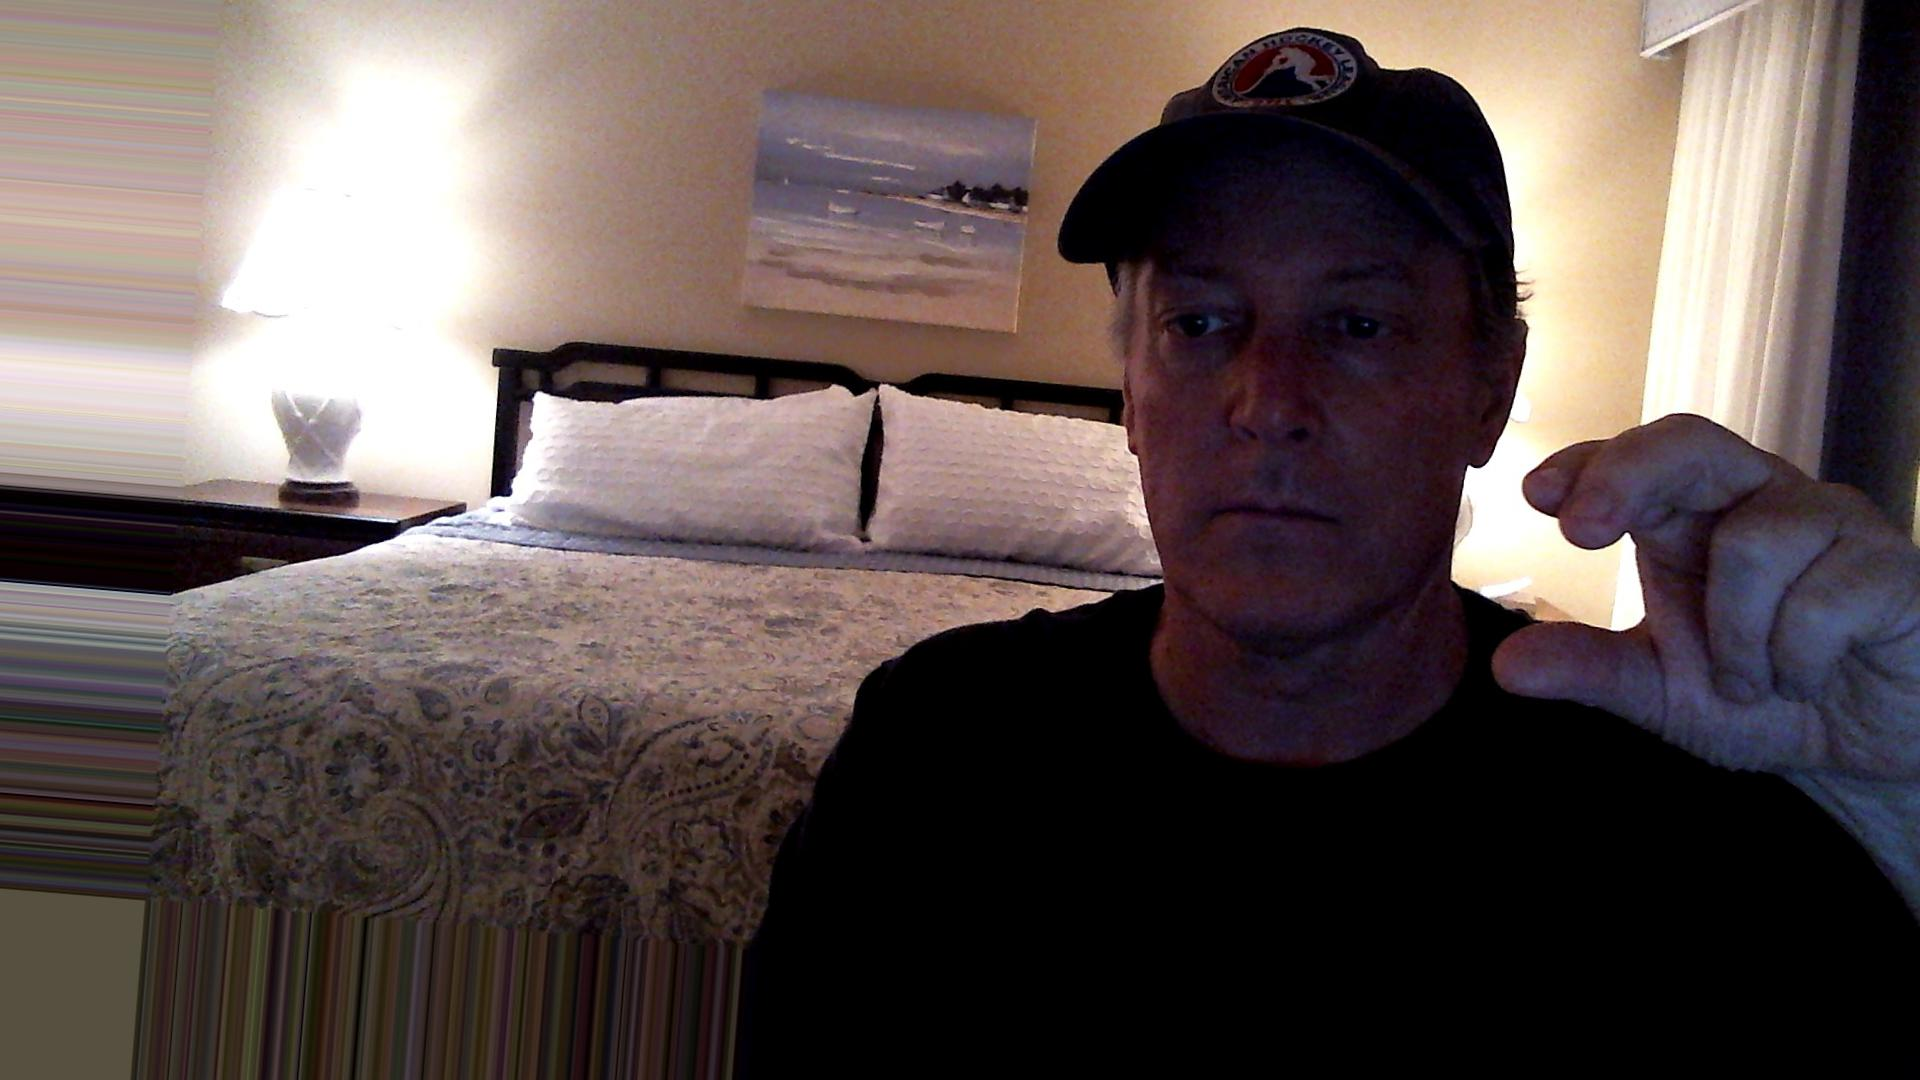No: (1465, 372, 1920, 818)
